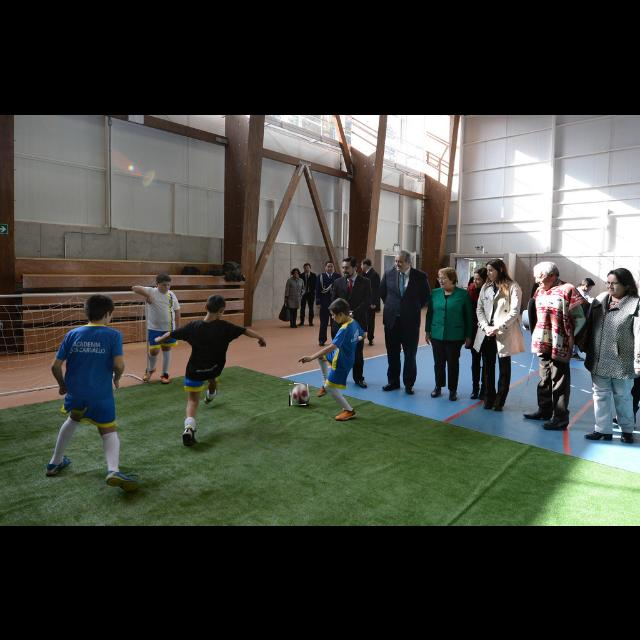Football: (289, 384, 309, 406)
